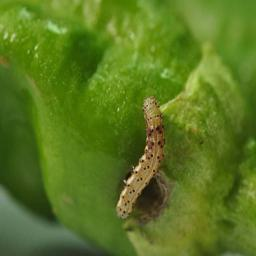Tobacco_budworm: (114, 94, 169, 221)
